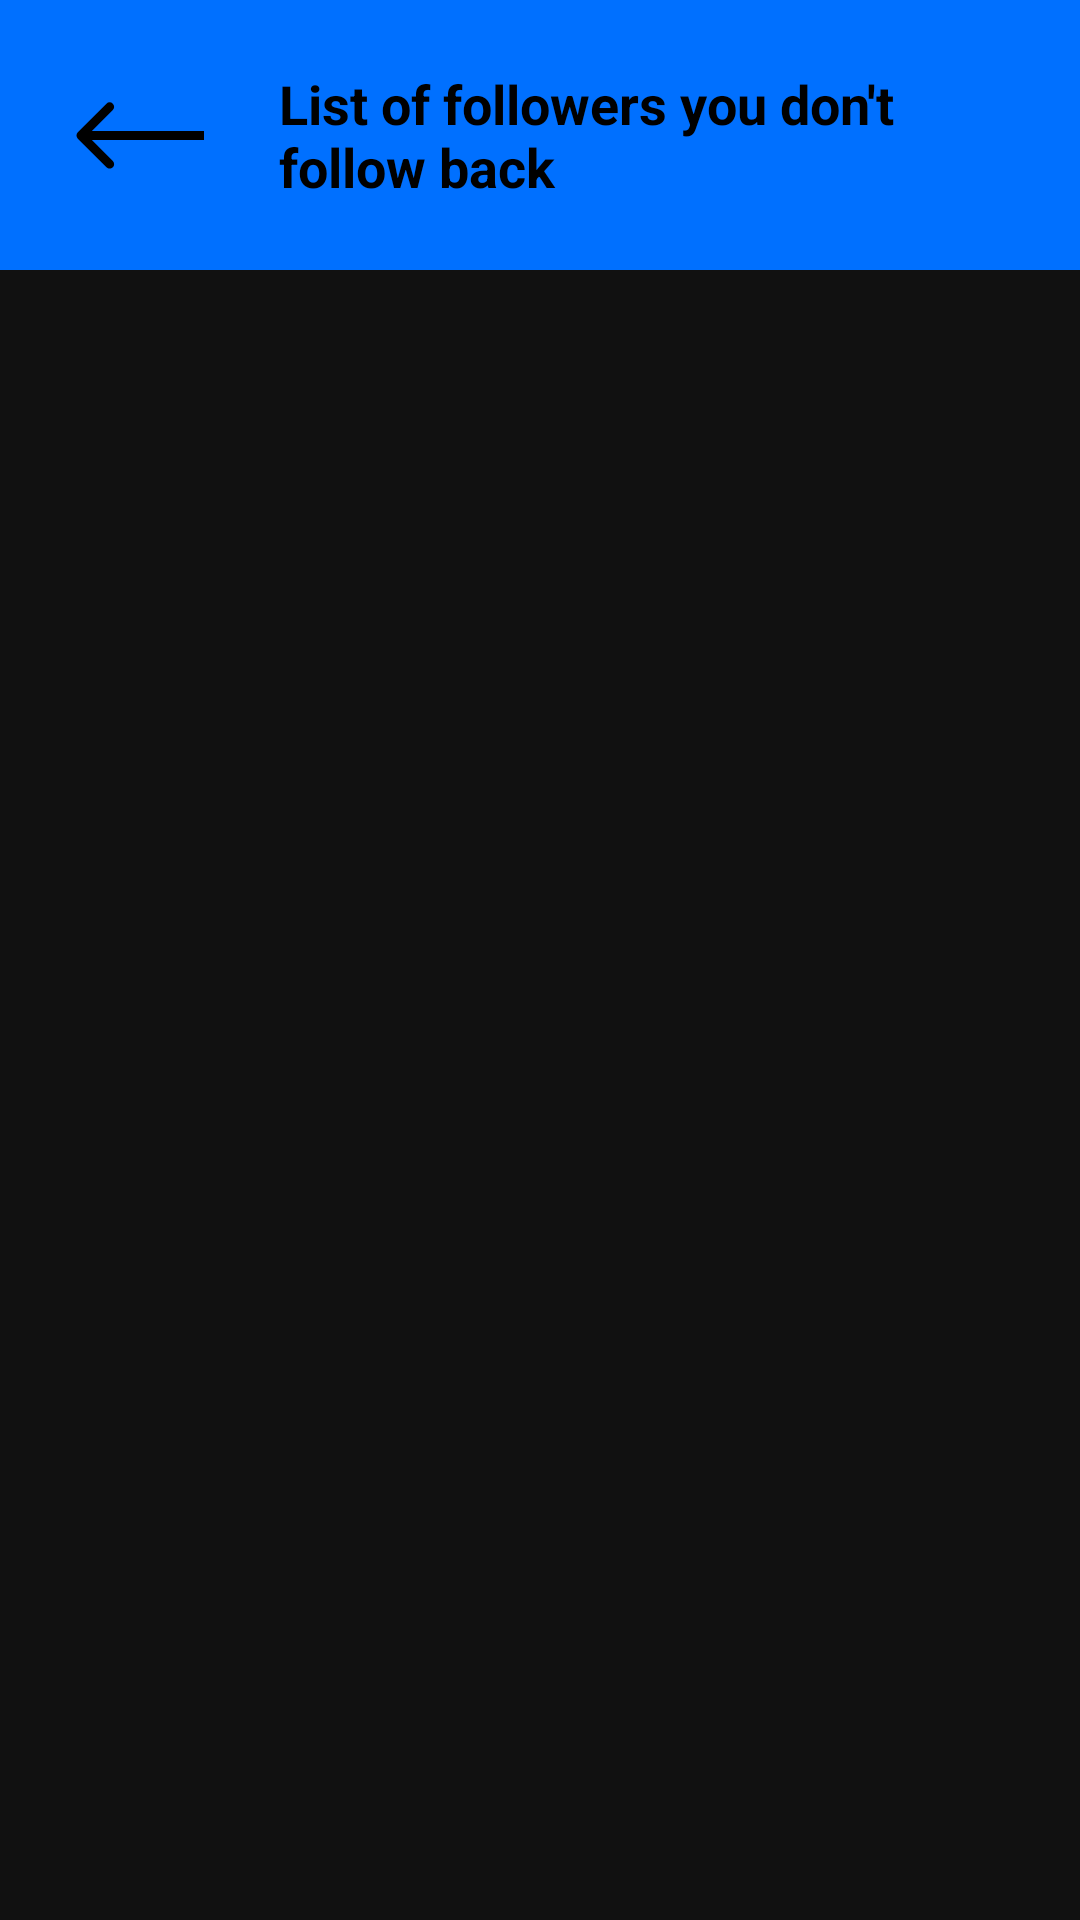

Where icons sit on this 1080w x 1920h app screen, as rect(x1, y1, x2, y2):
arrow left: rect(76, 102, 204, 169)
